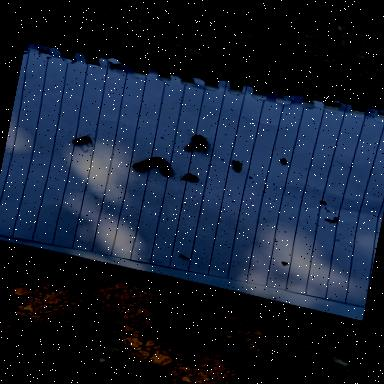abw: (126, 152, 168, 174)
pbw: (230, 159, 246, 172)
